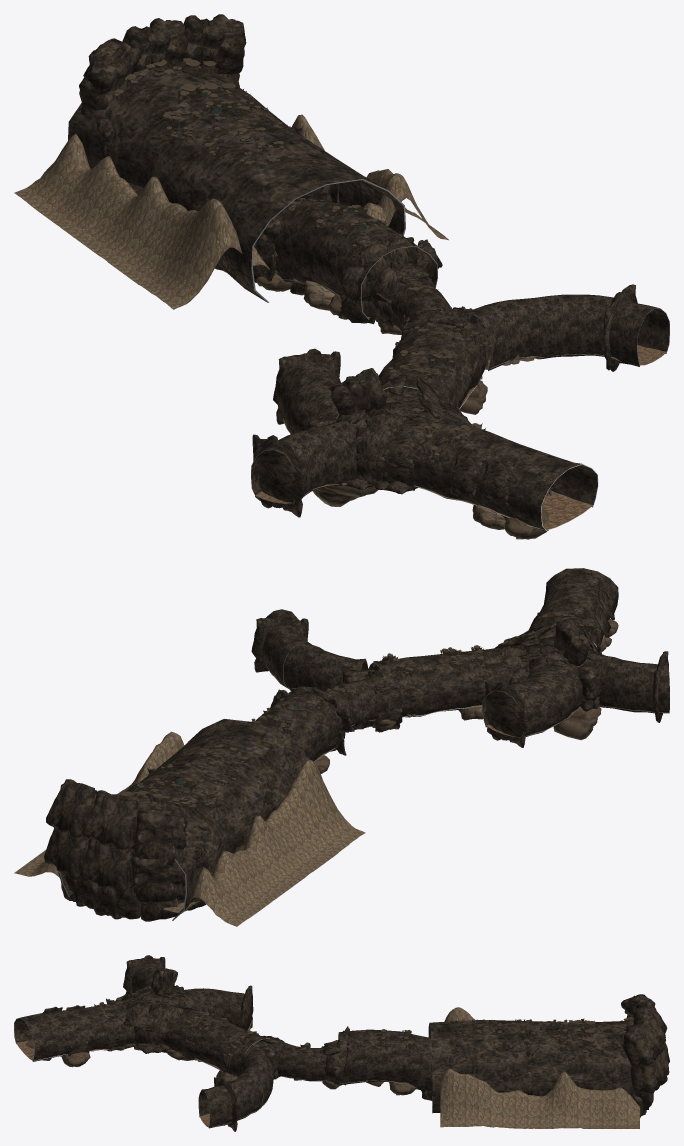
Rendered from bf_ancientcaverns.glb.
The picture shows the model from 3 angles, top to bottom: view 1: azimuth 30°, elevation 25°; view 2: azimuth 150°, elevation 25°; view 3: azimuth 270°, elevation 25°; orthographic projection. The views are drawn at different scales.
Parts seen in each view (by area): view 1: cave_flat_m, Battlefield_AncientCaverns_terrain0, cave_flat (1), cave_turn_down, cave_turn_r (1), cave_flat, cave_turn_r, cave_turn_r (3), cave_turn_r (2), rock_plane (39), rock_wall (23), rock_wall (21) (+12 smaller); view 2: cave_flat_m, Battlefield_AncientCaverns_terrain0, cave_flat, cave_turn_r (2), cave_flat (1), cave_turn_r (3), cave_turn_down, cave_turn_r, rock_wall (21), rock_wall (22), rock_plane (38), rock_wall (17) (+12 smaller); view 3: cave_flat_m, Battlefield_AncientCaverns_terrain0, cave_flat (1), cave_turn_down, cave_flat, cave_turn_r (1), cave_turn_l, cave_turn_r (2), rock_wall (23), cave_turn_r, rock_wall (20), rock_plane (21) (+13 smaller).
Boxes of the visible parts, x1,y1,x2,y2 form: cave_flat_m: [68, 61, 405, 302]; Battlefield_AncientCaverns_terrain0: [14, 114, 448, 309]; cave_flat (1): [407, 420, 598, 531]; cave_turn_down: [273, 199, 437, 319]; cave_turn_r (1): [558, 294, 669, 366]; cave_flat: [379, 315, 489, 408]; cave_turn_r: [462, 294, 563, 370]; cave_turn_r (3): [251, 421, 356, 504]; cave_turn_r (2): [277, 360, 340, 433]; rock_plane (39): [252, 434, 304, 517]; rock_wall (23): [182, 14, 246, 74]; rock_wall (21): [79, 38, 141, 115]; cave_flat_m: [59, 719, 309, 920]; Battlefield_AncientCaverns_terrain0: [14, 731, 365, 926]; cave_flat: [368, 646, 520, 717]; cave_turn_r (2): [482, 662, 582, 738]; cave_flat (1): [529, 568, 618, 646]; cave_turn_r (3): [583, 653, 669, 713]; cave_turn_down: [255, 686, 345, 761]; cave_turn_r: [281, 641, 368, 691]; rock_wall (21): [134, 807, 187, 865]; rock_wall (22): [82, 790, 139, 849]; rock_plane (38): [485, 681, 526, 747]; rock_wall (17): [131, 848, 183, 903]; cave_flat_m: [428, 1019, 649, 1113]; Battlefield_AncientCaverns_terrain0: [440, 1007, 639, 1128]; cave_flat (1): [14, 1002, 135, 1061]; cave_turn_down: [338, 1029, 432, 1092]; cave_flat: [161, 1007, 269, 1077]; cave_turn_r (1): [198, 1073, 264, 1128]; cave_turn_l: [262, 1041, 326, 1081]; cave_turn_r (2): [175, 988, 252, 1030]; rock_wall (23): [623, 1018, 664, 1067]; cave_turn_r: [238, 1048, 273, 1108]; rock_wall (20): [630, 1053, 667, 1093]; rock_plane (21): [123, 1001, 159, 1028].
Bounding box in the file's own units: 134 × 43.59 × 263.
Materials: 10 (9 with a texture image).
